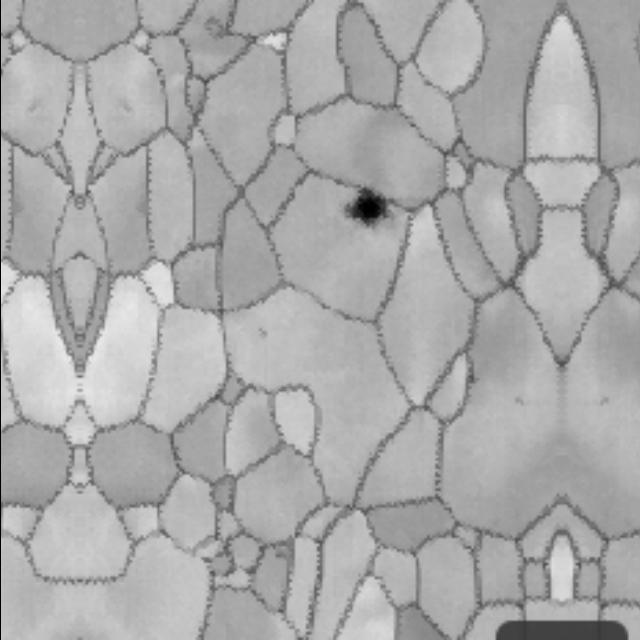good_void: (336, 175, 403, 233), (193, 5, 236, 48), (506, 386, 534, 414), (588, 387, 615, 414), (248, 319, 273, 347), (269, 542, 291, 564)
